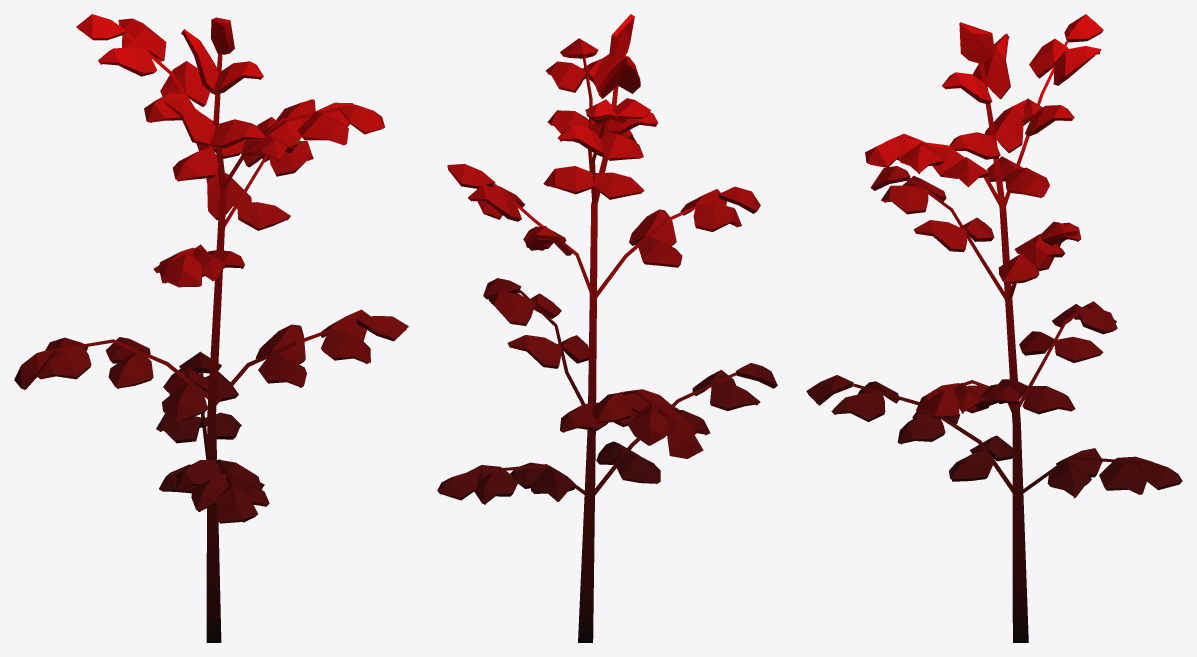
File: TreeWalnutSmall09.fbx
3 views of the same model, side by side, from view 1: azimuth 30°, elevation 25°; view 2: azimuth 150°, elevation 25°; view 3: azimuth 270°, elevation 25° (orthographic). The views are drawn at different scales.
Parts seen in each view (by area): view 1: TreeWalnutSmall09_LOD0; view 2: TreeWalnutSmall09_LOD0; view 3: TreeWalnutSmall09_LOD0.
Part boxes in pixels (left/top/right/bottom): TreeWalnutSmall09_LOD0: left=14, top=14, right=408, bottom=642; TreeWalnutSmall09_LOD0: left=437, top=14, right=777, bottom=642; TreeWalnutSmall09_LOD0: left=806, top=14, right=1182, bottom=642.
Size of what is drawn, in the model's own units: 122 by 245 by 137.
